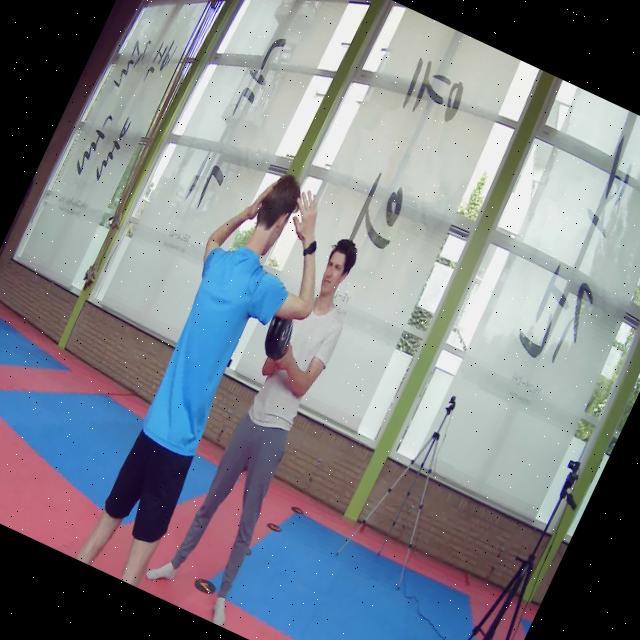paddle: (264, 316, 292, 361)
